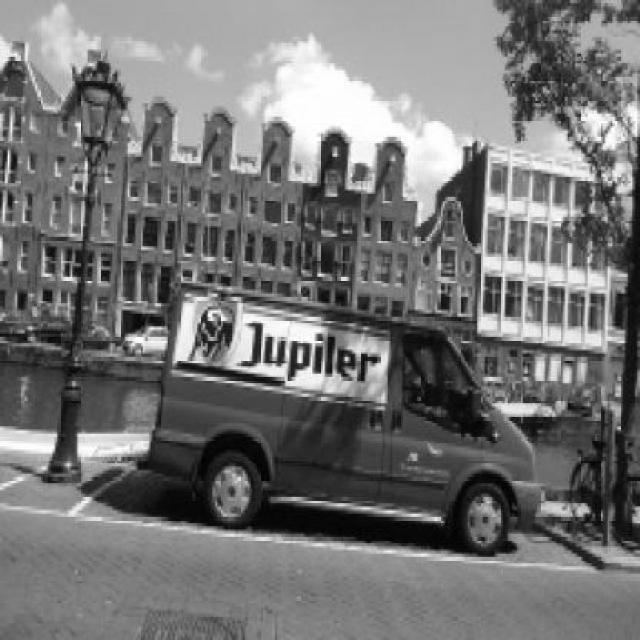Van: (141, 281, 542, 559)
